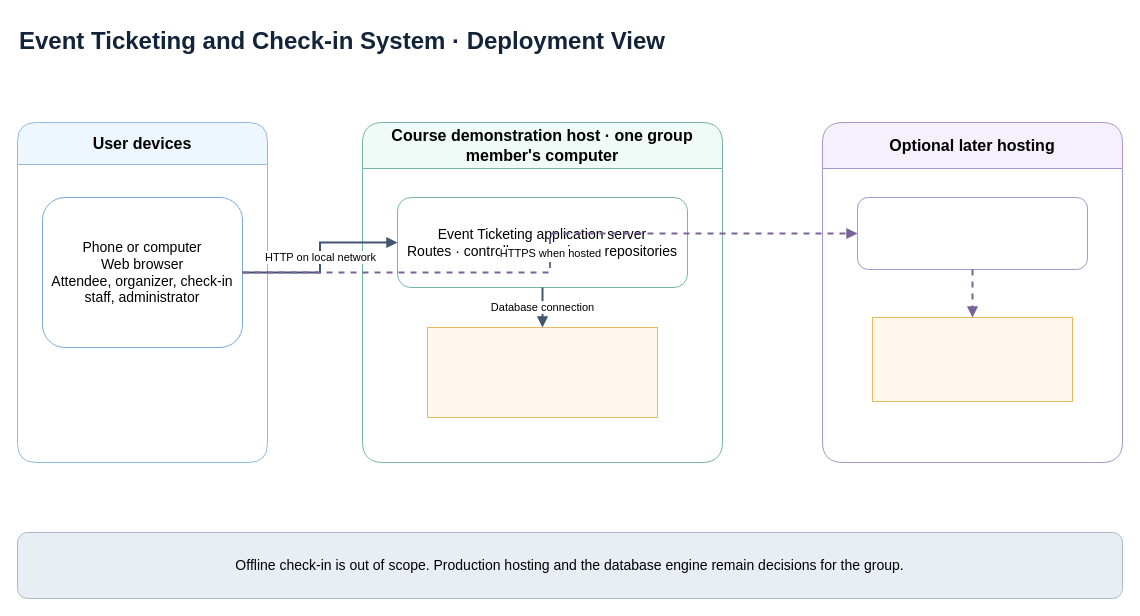
Image size: 1140x616. Some labels were removed from this diagram. The centre of each missing label's shape, as x and y in pixels:
"Hosted application server" goes at (x=972, y=233).
"Hosted relational database" goes at (x=972, y=359).
"Relational database Events, registrations, tickets, payments, check-ins, updates" goes at (x=542, y=372).
